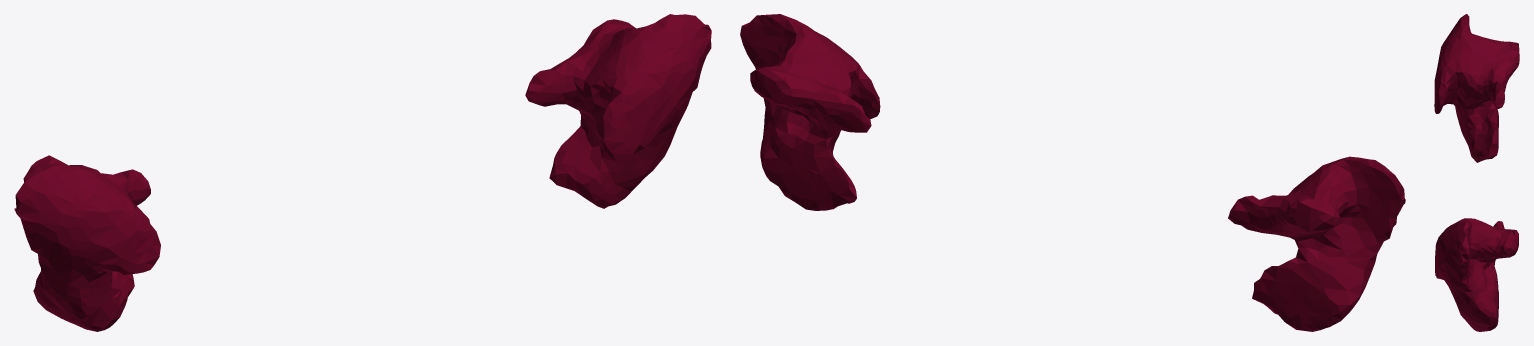
Rendered from 62-TPPro-temporopolar proisocortex-('0.4980', '0.0000', '0.1686').obj.
3 renders of one model, left to right at view 1: azimuth 30°, elevation 25°; view 2: azimuth 150°, elevation 25°; view 3: azimuth 270°, elevation 25°, orthographic. The views are drawn at different scales.
Bounding box in the file's own units: 300 × 76.43 × 46.55.
